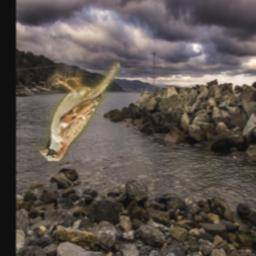Sparrow: (40, 62, 121, 161)
